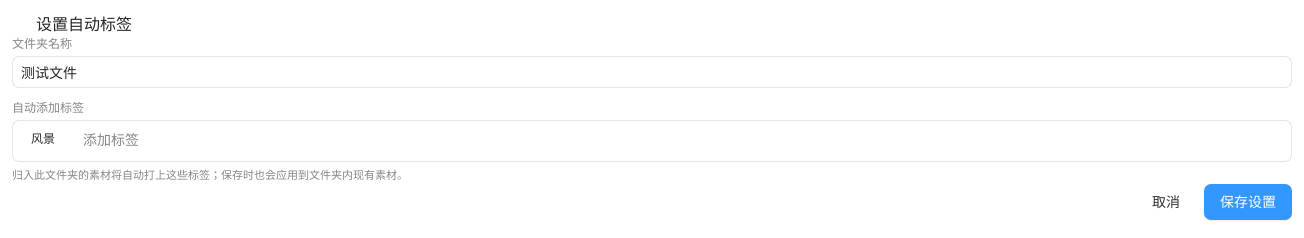
Test case: AutoTagModal › 输入显示字典建议并排除已选；回车添加胶囊
In the field with placeholder "添加标签": coordinates (683, 139) [83,127,1283,151], type "人像"
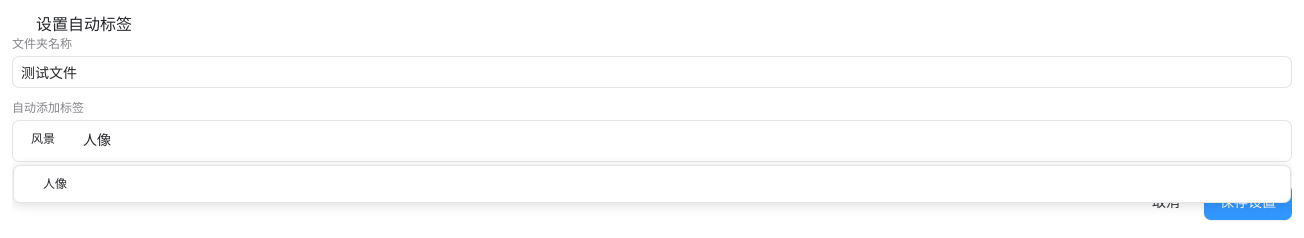
Check: the text "+ 新建 \"" is not shown
Check: the text "人像" is shown, box [14,170,1290,198]
Press Enter in the field with placeholder "添加标签" next to "风景", box [83,127,1283,151]
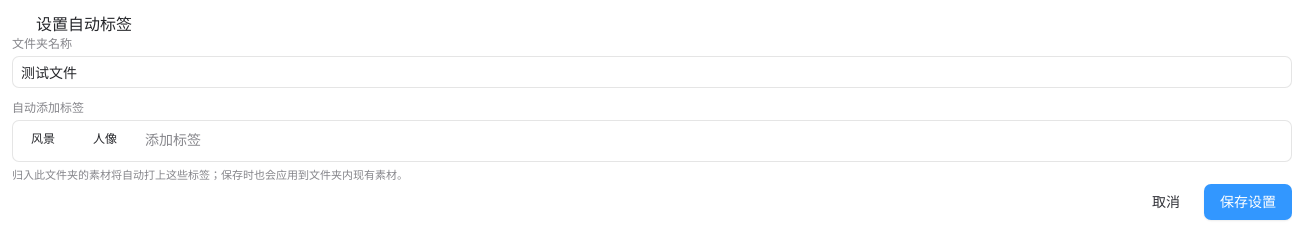
In the field with placeholder "添加标签": coordinates (714, 139) [145,127,1283,151], type "人"
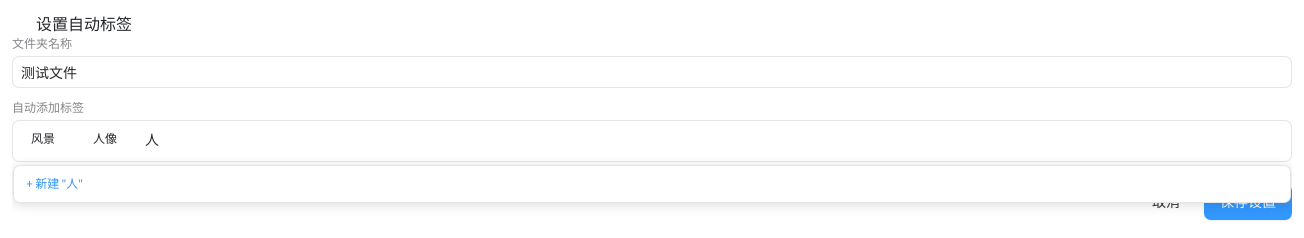
Check: the text "+ 新建 \"" is shown, box [14,170,1290,198]
